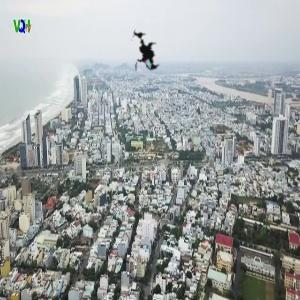drone: (109, 19, 177, 87)
